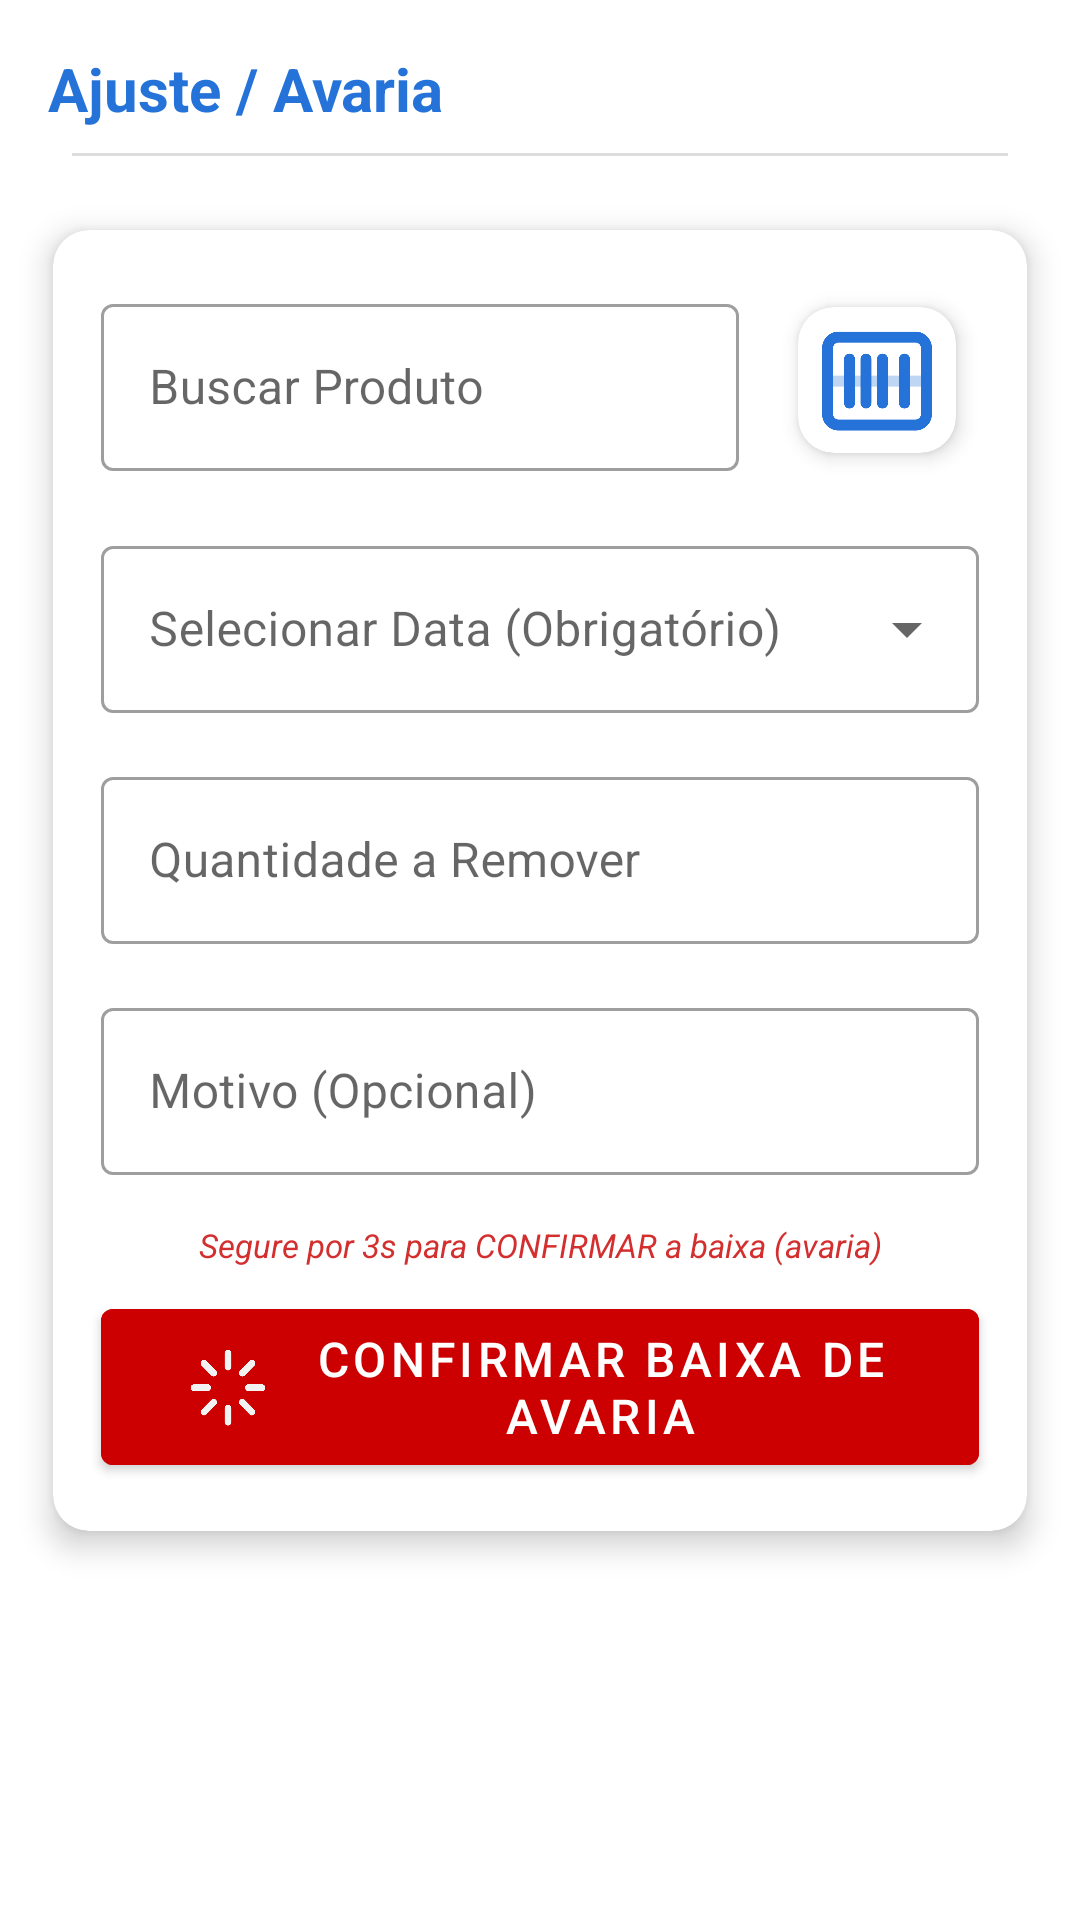

Where to tap for icons on this 1080px x 1920px app screen, as [x,y]:
Escanear EAN: [880,384]
